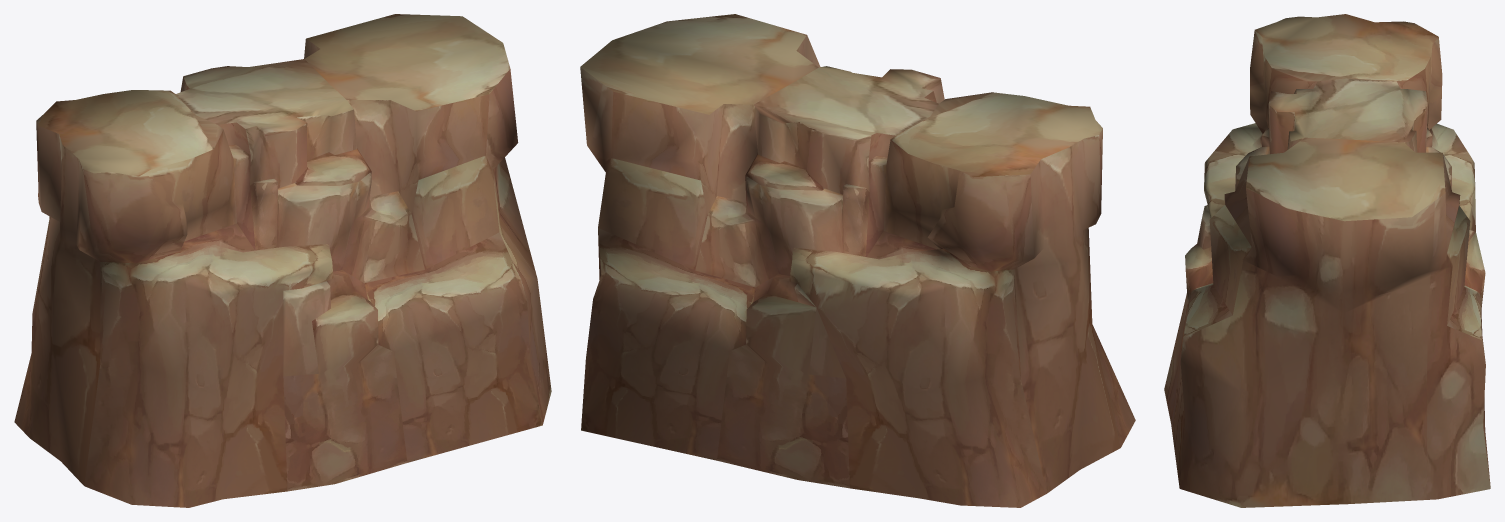
Rendered from Map_11_stone01.FBX.
3 views of the same model, side by side, from view 1: azimuth 30°, elevation 25°; view 2: azimuth 150°, elevation 25°; view 3: azimuth 270°, elevation 25° (orthographic). The views are drawn at different scales.
Visible parts, largest first — view 1: Map_11_stone01; view 2: Map_11_stone01; view 3: Map_11_stone01.
Boxes of the visible parts, x1,y1,x2,y2 form: Map_11_stone01: [14, 14, 551, 507]; Map_11_stone01: [580, 14, 1135, 507]; Map_11_stone01: [1164, 14, 1490, 507].
Size of the model in its own units: 635 by 418 by 416.
